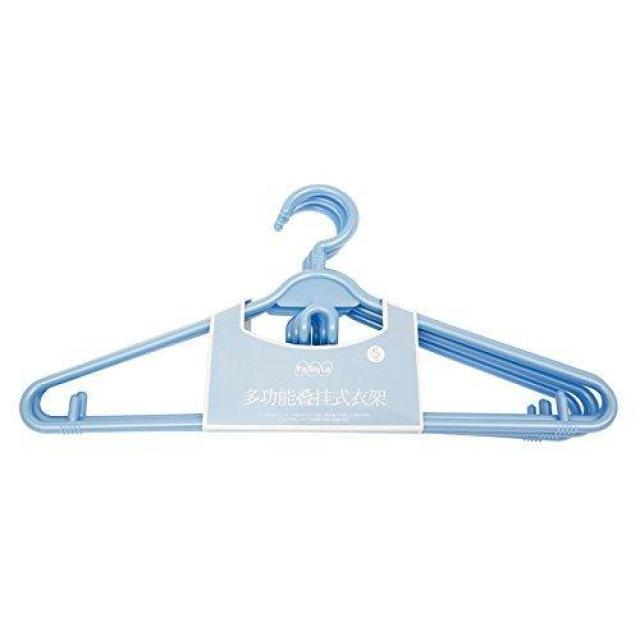inorganic: (10, 147, 636, 435)
